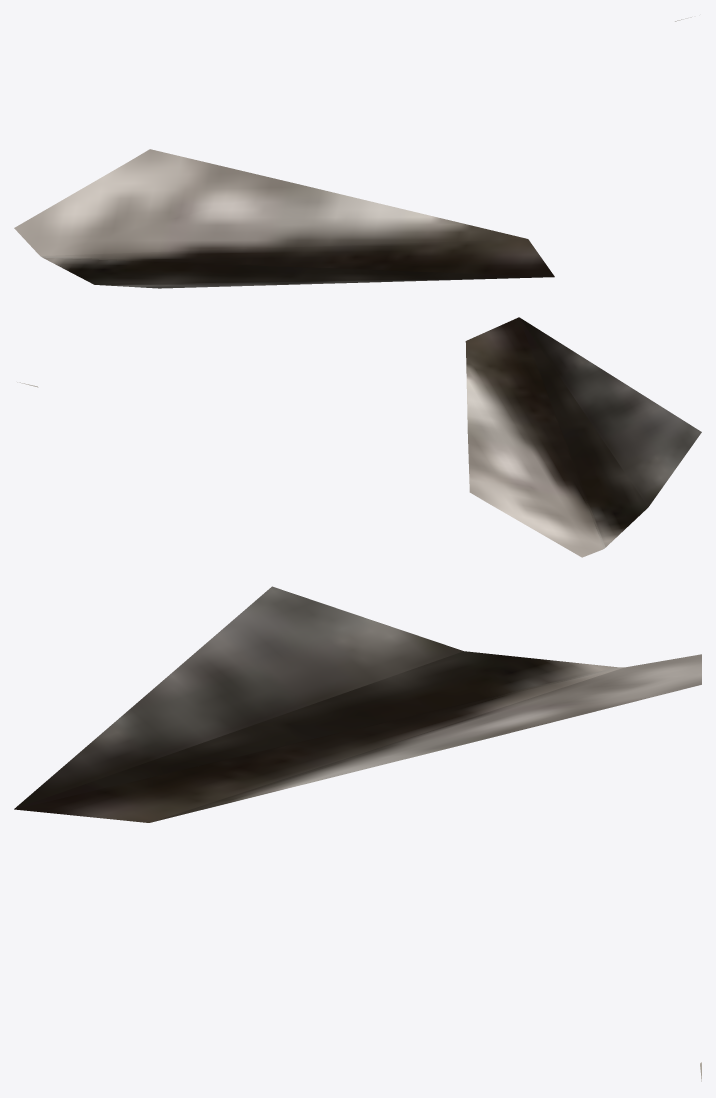
The picture shows the model from 3 angles, top to bottom: view 1: azimuth 30°, elevation 25°; view 2: azimuth 150°, elevation 25°; view 3: azimuth 270°, elevation 25°; orthographic projection. The views are drawn at different scales.
Bounding box in the file's own units: 0.259 × 0.0197 × 0.1515.
Materials: 1 (1 with a texture image).
